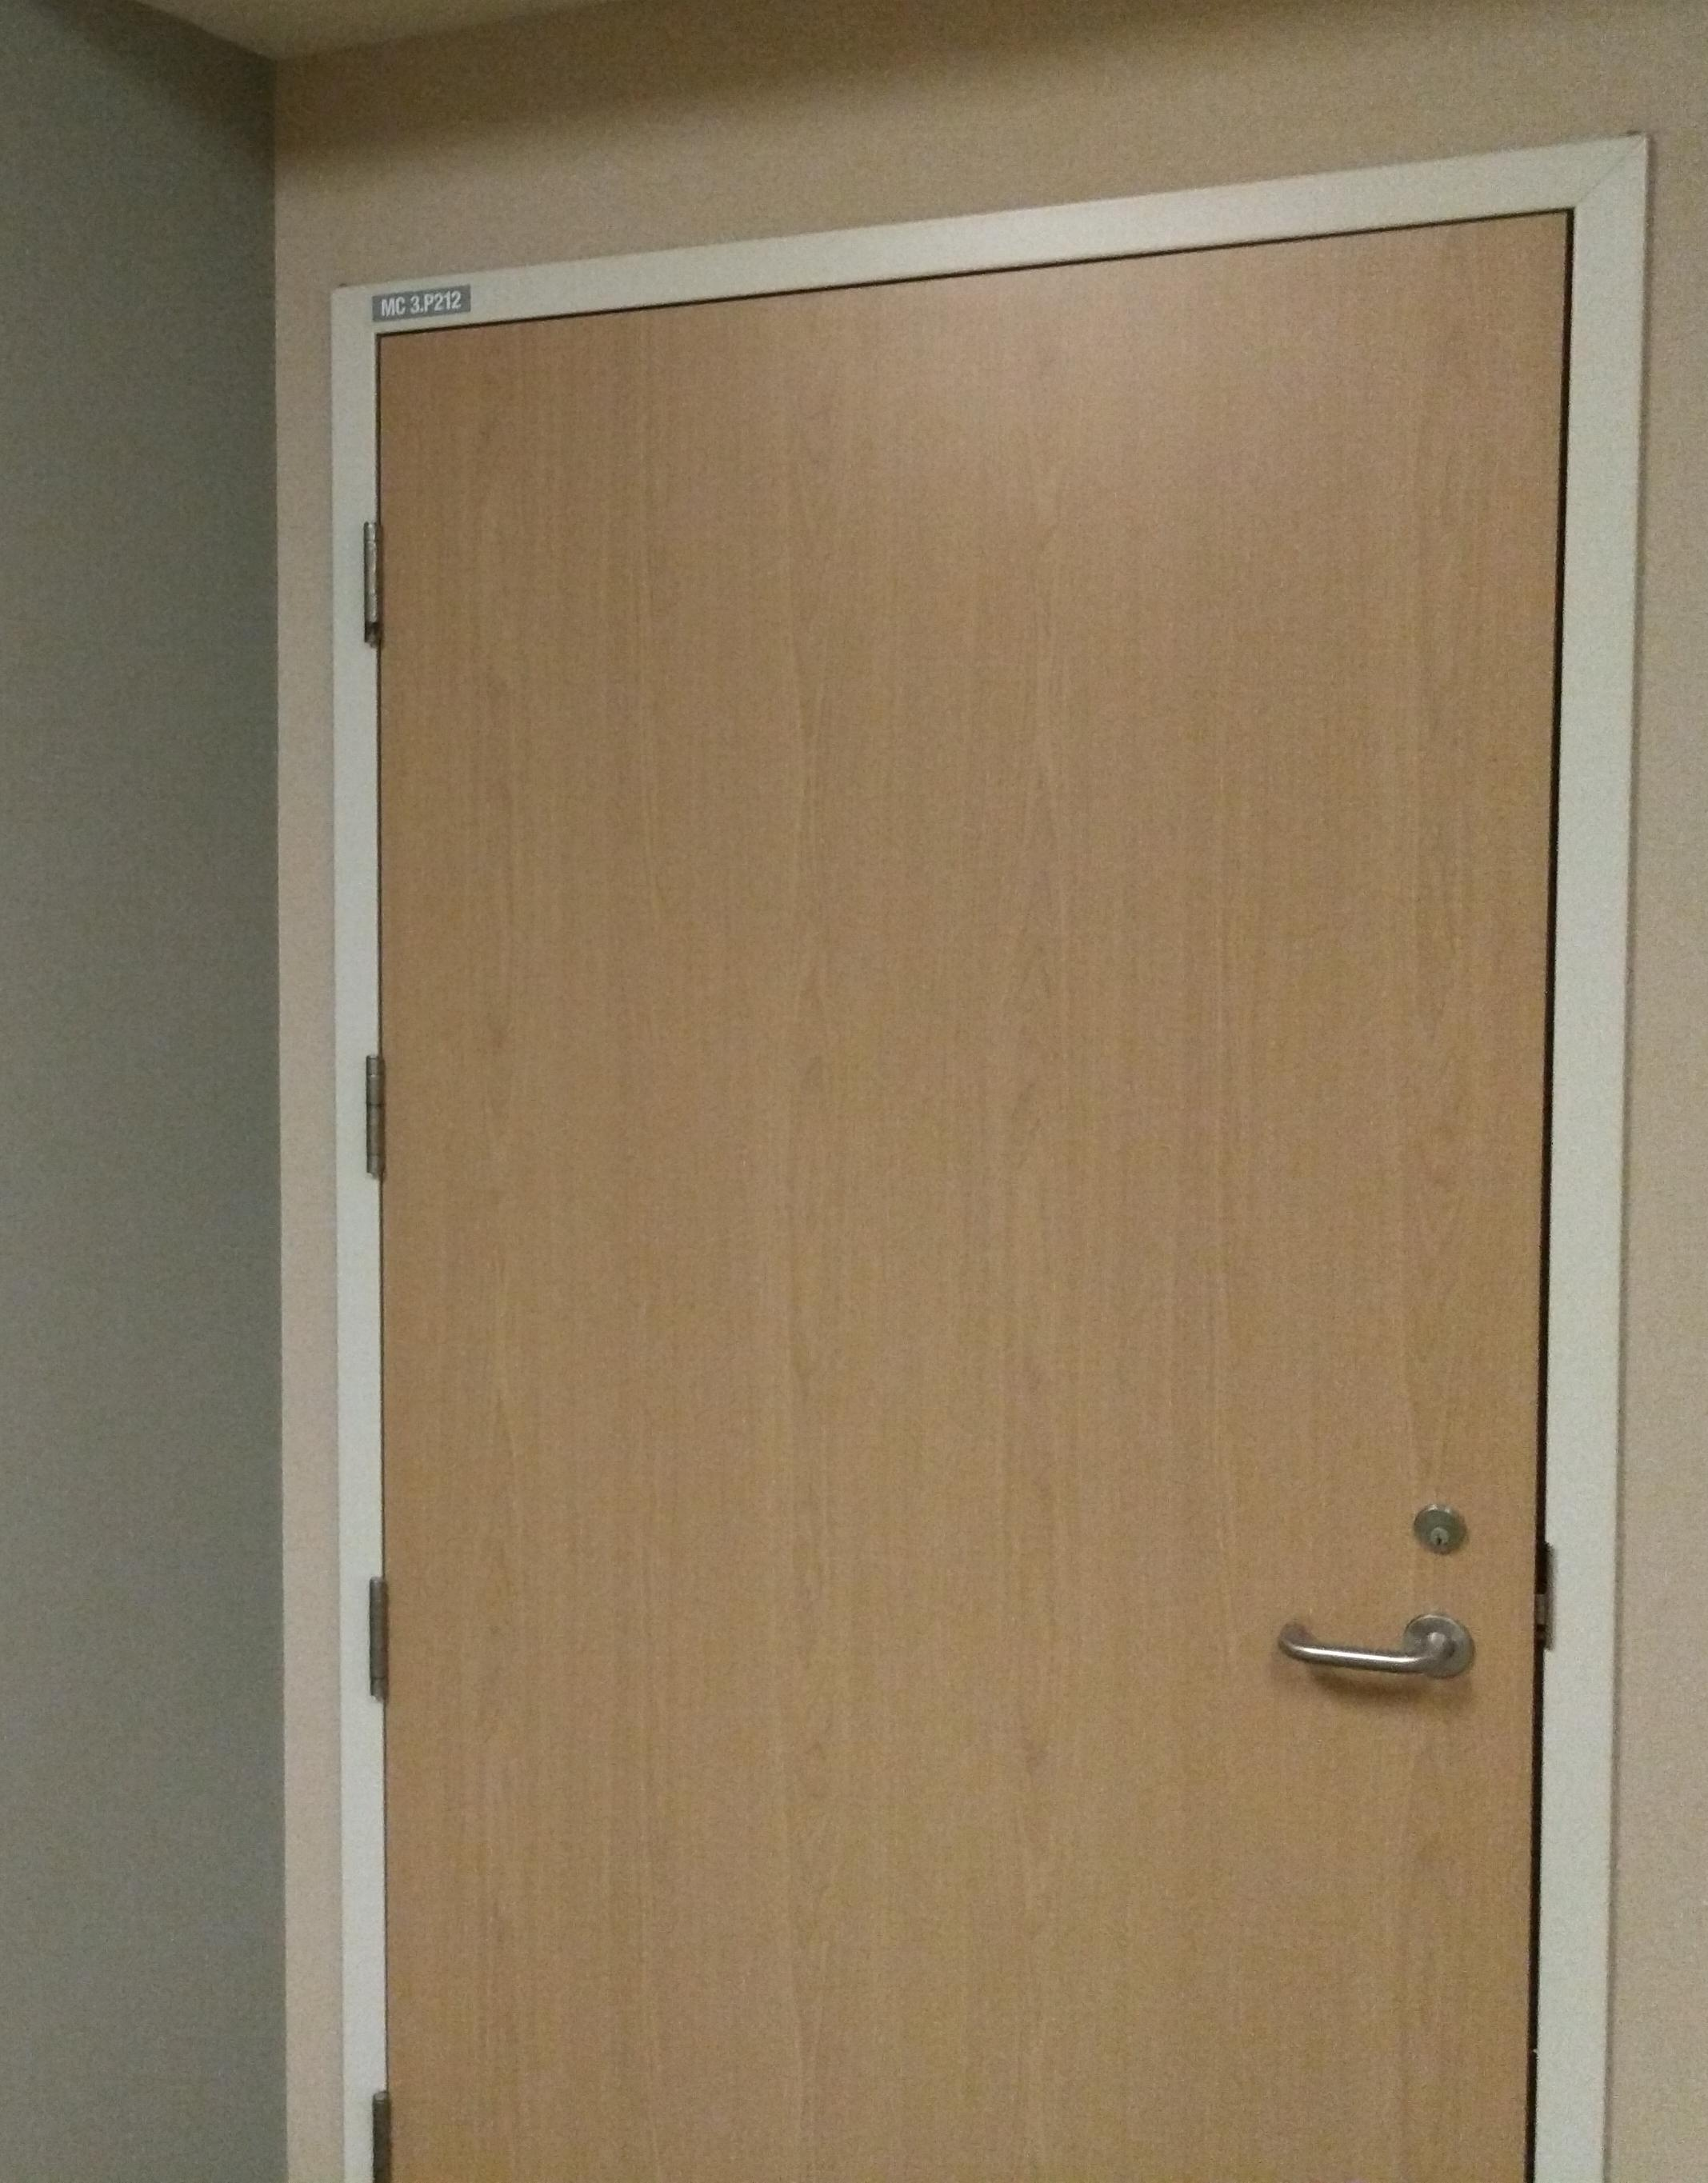door: (369, 198, 1612, 2183)
